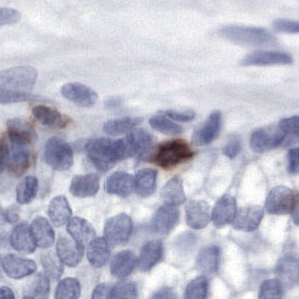Lymphocyte: (153, 139, 193, 167)
